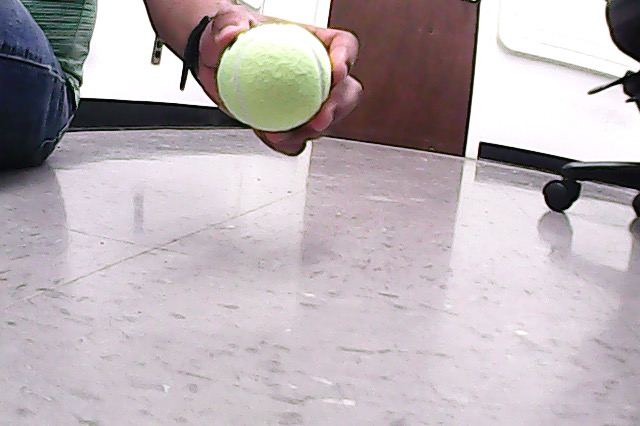ball: (218, 23, 332, 133)
